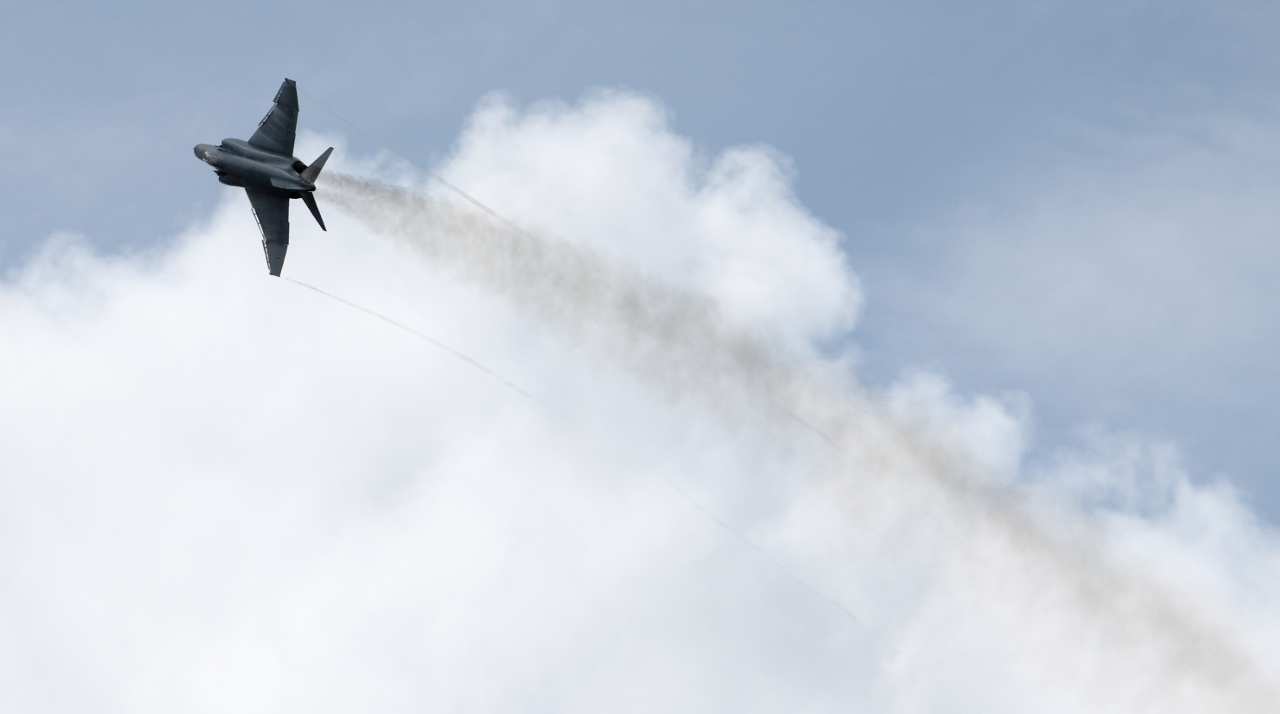F4: (190, 77, 335, 278)
